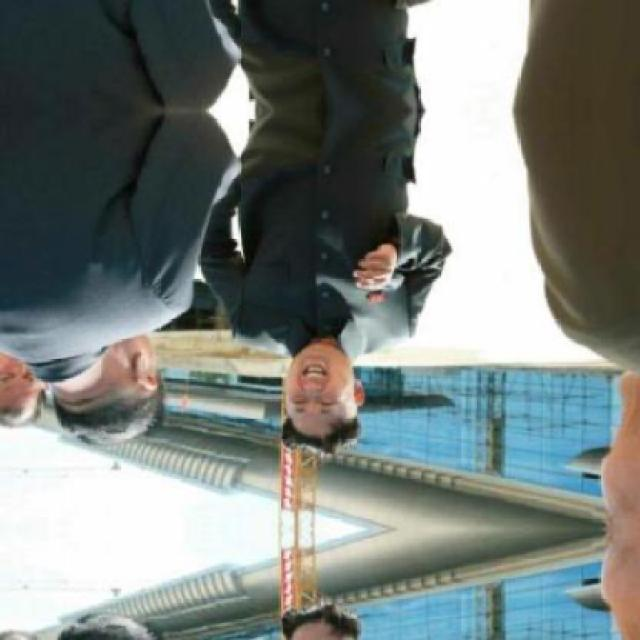sin casco: (0, 300, 181, 486), (231, 321, 389, 474), (564, 340, 640, 638)
